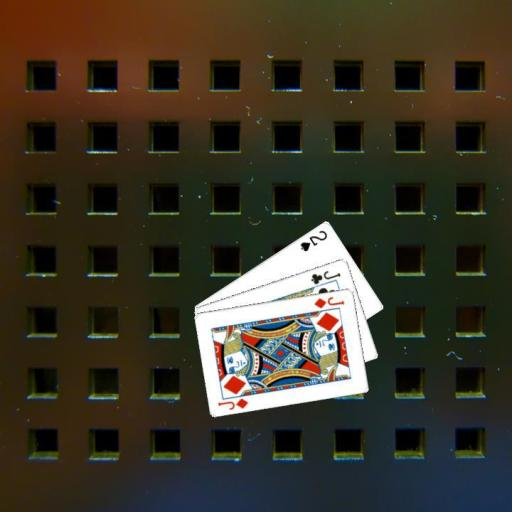2S: (297, 227, 329, 252)
JC: (308, 267, 342, 286)
JD: (311, 293, 346, 309), (215, 395, 250, 411)
